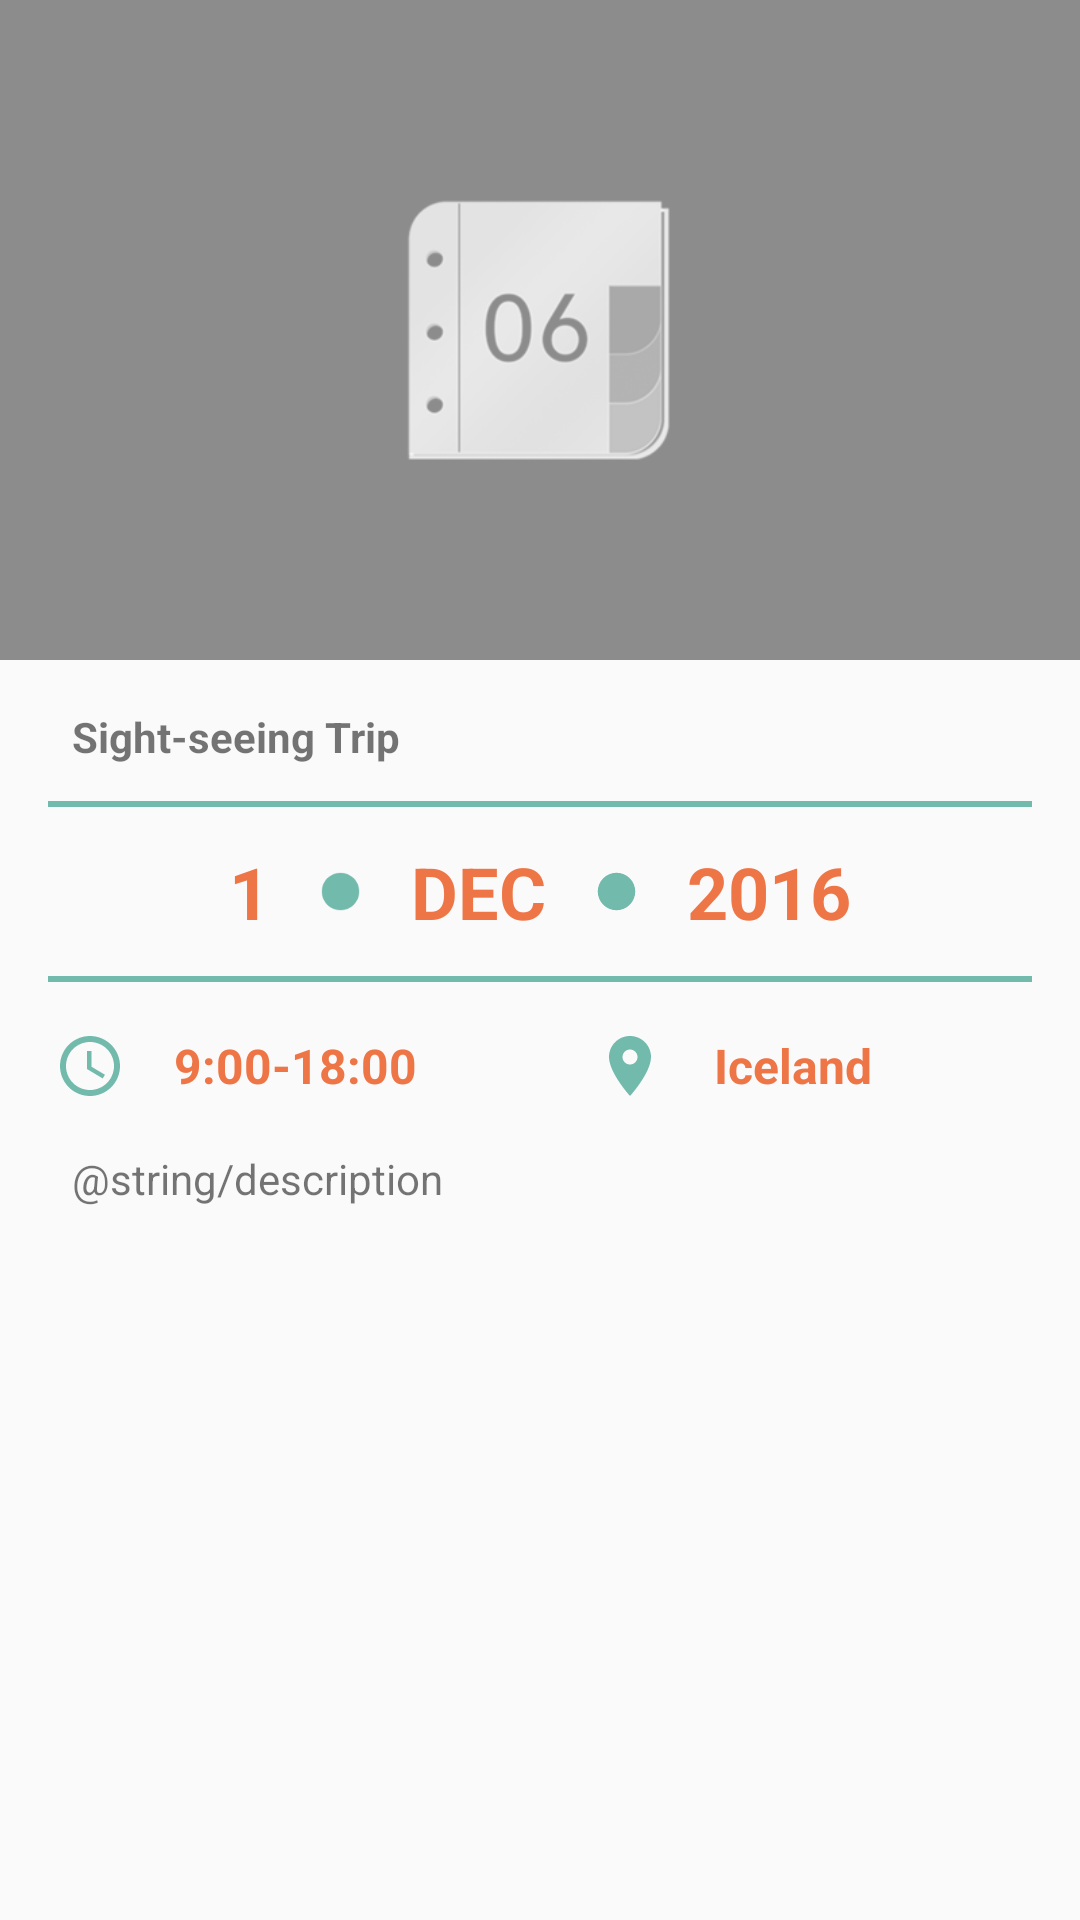

Screen size 1080×1920. Icon name, then its center in pixels as (x=x, y=y):
location on: (x=630, y=1066)
query builder: (x=90, y=1066)
